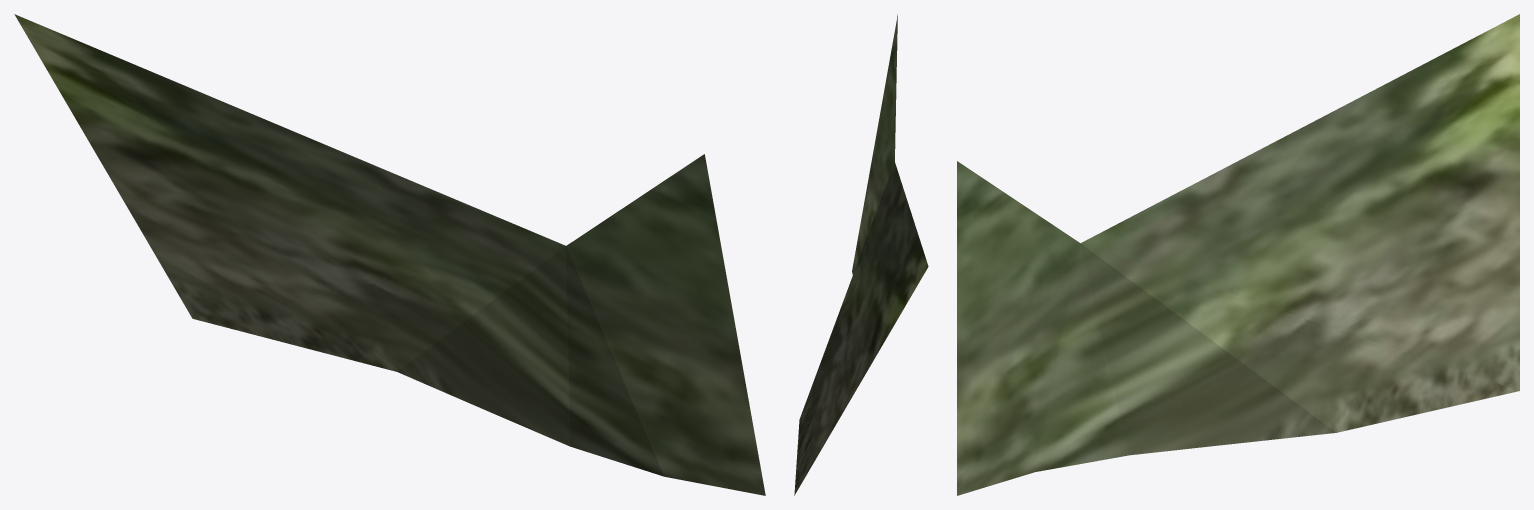
3 renders of one model, left to right at view 1: azimuth 30°, elevation 25°; view 2: azimuth 150°, elevation 25°; view 3: azimuth 270°, elevation 25°, orthographic. The views are drawn at different scales.
Size of the model in its own units: 2.24 by 1.79 by 2.95.
Materials: 2 (2 with a texture image).
